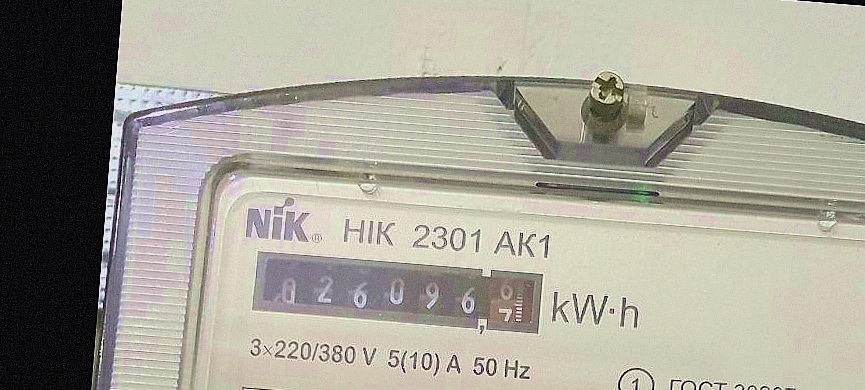0: (385, 272, 408, 309), (277, 272, 299, 305)
2: (313, 271, 337, 307)
6: (350, 275, 371, 312), (458, 281, 478, 315), (496, 274, 517, 303)
7: (495, 303, 515, 325)
9: (421, 278, 442, 312)
screen: (241, 240, 552, 345)
